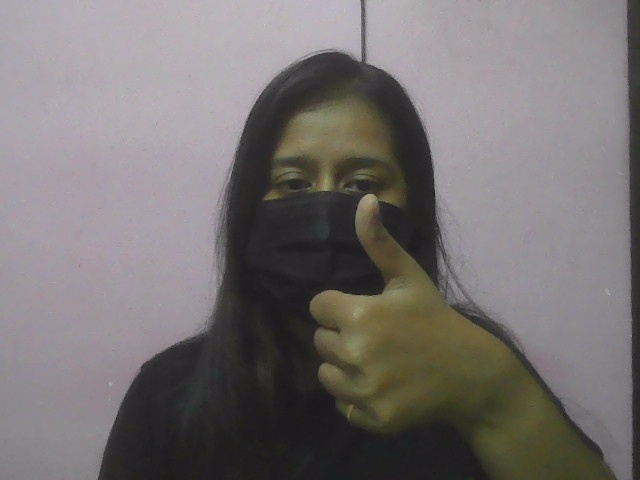Good: (291, 190, 511, 436)
